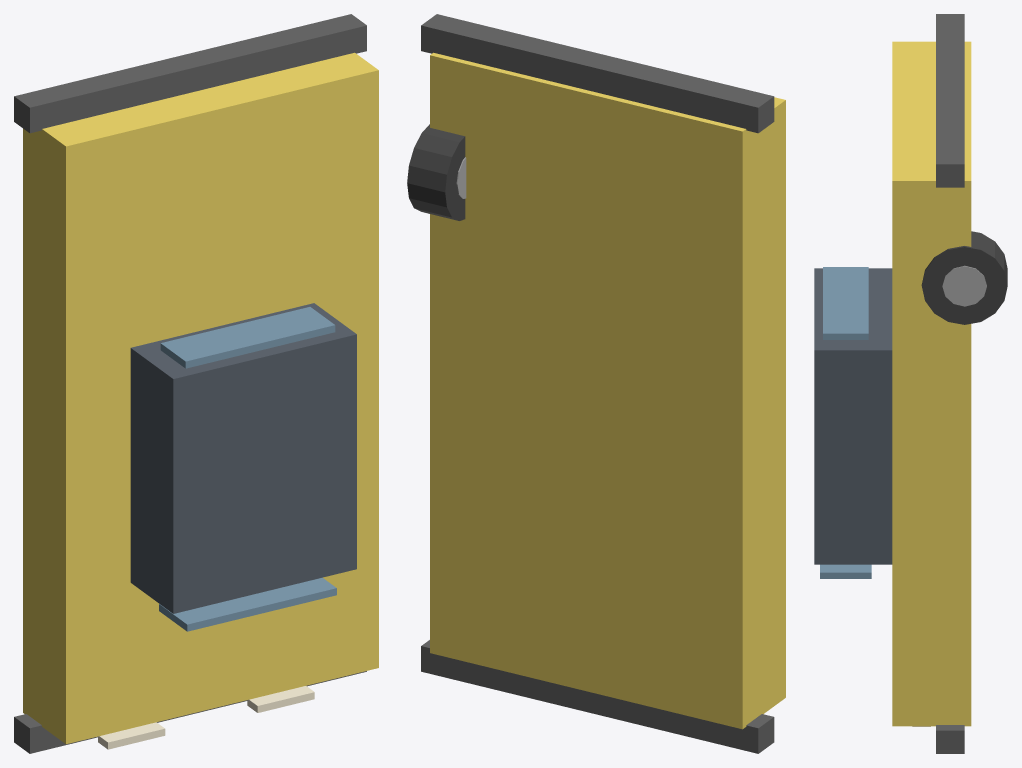
Rendered from vehicle_yellow_taxi.glb.
The picture shows the model from 3 angles, left to right: view 1: azimuth 30°, elevation 25°; view 2: azimuth 150°, elevation 25°; view 3: azimuth 270°, elevation 25°; orthographic projection. The views are drawn at different scales.
Visible parts, largest first — view 1: body, dark_cabin, rear_bumper, rear_window, front_window, front_bumper, headlight_L, headlight_R; view 2: body, rear_bumper, front_bumper, wheel_tire; view 3: body, dark_cabin, rear_bumper, wheel_tire, rear_window, wheel_hub, front_bumper, front_window.
Boxes of the visible parts, bbox=[...] form: body: bbox=[23, 52, 378, 744]; dark_cabin: bbox=[130, 303, 356, 613]; rear_bumper: bbox=[14, 14, 366, 133]; rear_window: bbox=[160, 307, 335, 368]; front_window: bbox=[159, 577, 336, 631]; front_bumper: bbox=[14, 671, 366, 753]; headlight_L: bbox=[98, 722, 165, 749]; headlight_R: bbox=[247, 686, 314, 712]; body: bbox=[430, 52, 785, 729]; rear_bumper: bbox=[421, 14, 774, 133]; front_bumper: bbox=[421, 640, 774, 753]; wheel_tire: bbox=[407, 124, 465, 220]; body: bbox=[892, 41, 971, 726]; dark_cabin: bbox=[814, 268, 892, 564]; rear_bumper: bbox=[936, 14, 964, 187]; wheel_tire: bbox=[921, 231, 1007, 324]; rear_window: bbox=[823, 267, 868, 339]; wheel_hub: bbox=[942, 265, 986, 306]; front_bumper: bbox=[936, 725, 964, 753]; front_window: bbox=[820, 564, 871, 578].
Bounding box in the file's own units: 2.48 × 4.56 × 1.35.
